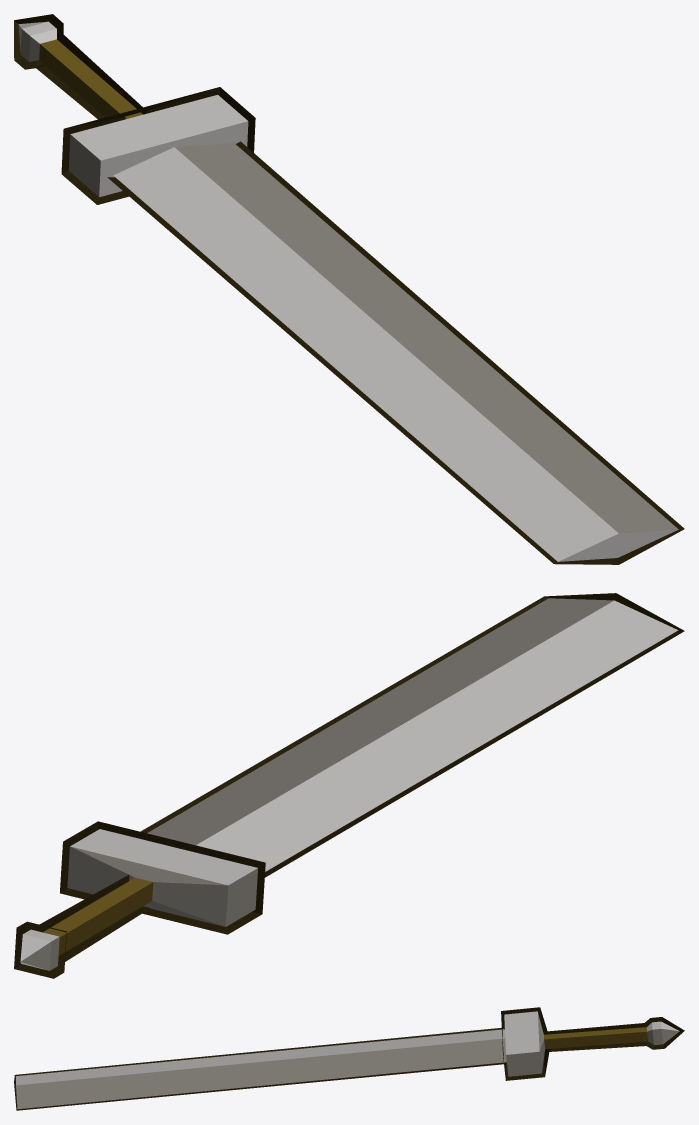
File: 2Hand-Sword.glb
3 renders of one model, top to bottom at view 1: azimuth 30°, elevation 25°; view 2: azimuth 150°, elevation 25°; view 3: azimuth 270°, elevation 25°, orthographic. The views are drawn at different scales.
Visible parts, largest first — view 1: 2Hand-Sword(Clone); view 2: 2Hand-Sword(Clone); view 3: 2Hand-Sword(Clone).
Boxes of the visible parts, x1=… form: 2Hand-Sword(Clone): x1=14, y1=14, x2=684, y2=564; 2Hand-Sword(Clone): x1=14, y1=593, x2=684, y2=978; 2Hand-Sword(Clone): x1=14, y1=1007, x2=684, y2=1110.
Bounding box in the file's own units: 0.4536 × 0.3626 × 2.87.
Materials: 1 (1 with a texture image).
